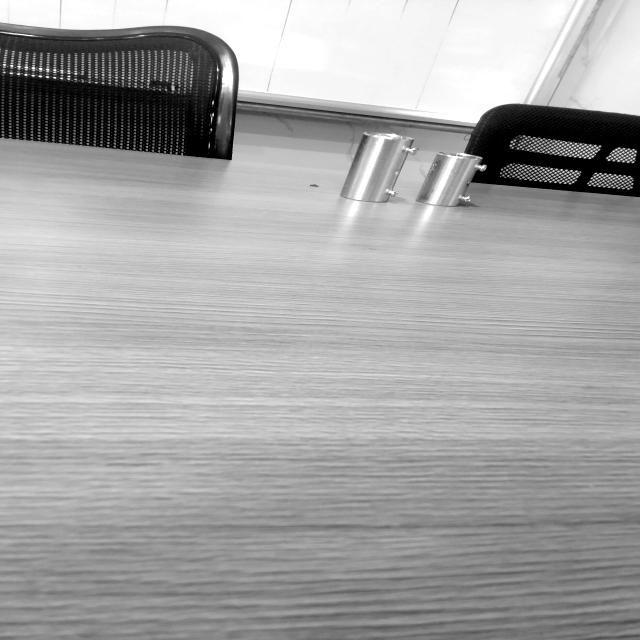Co_Lon: (340, 123, 414, 212)
Co_Nho: (415, 143, 483, 216)
